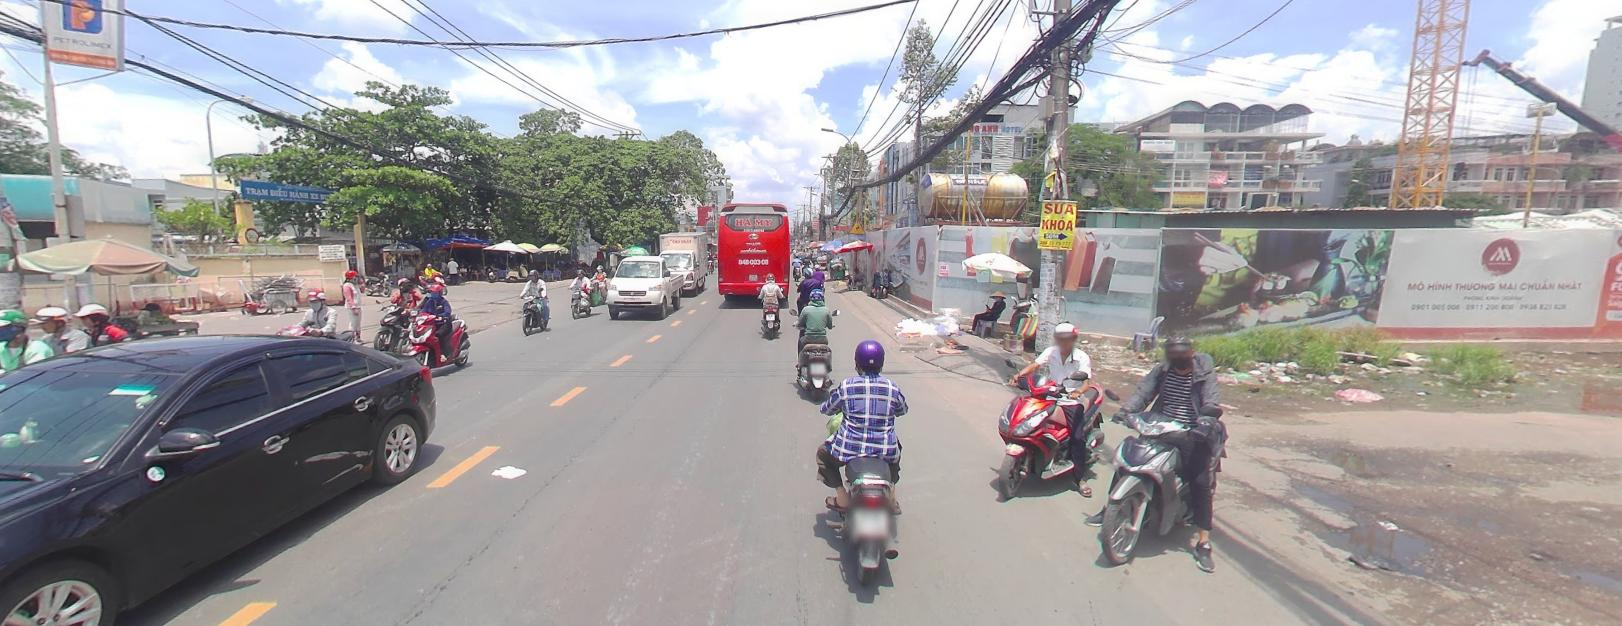Nguy hiem: (847, 218, 866, 233), (847, 219, 865, 233)
